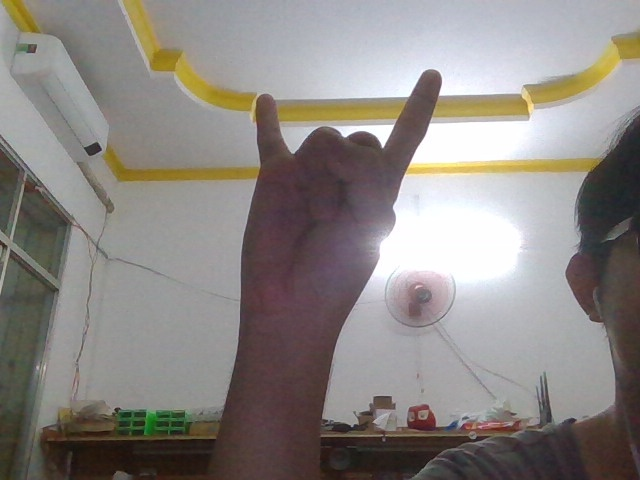yolo: (217, 45, 447, 348)
